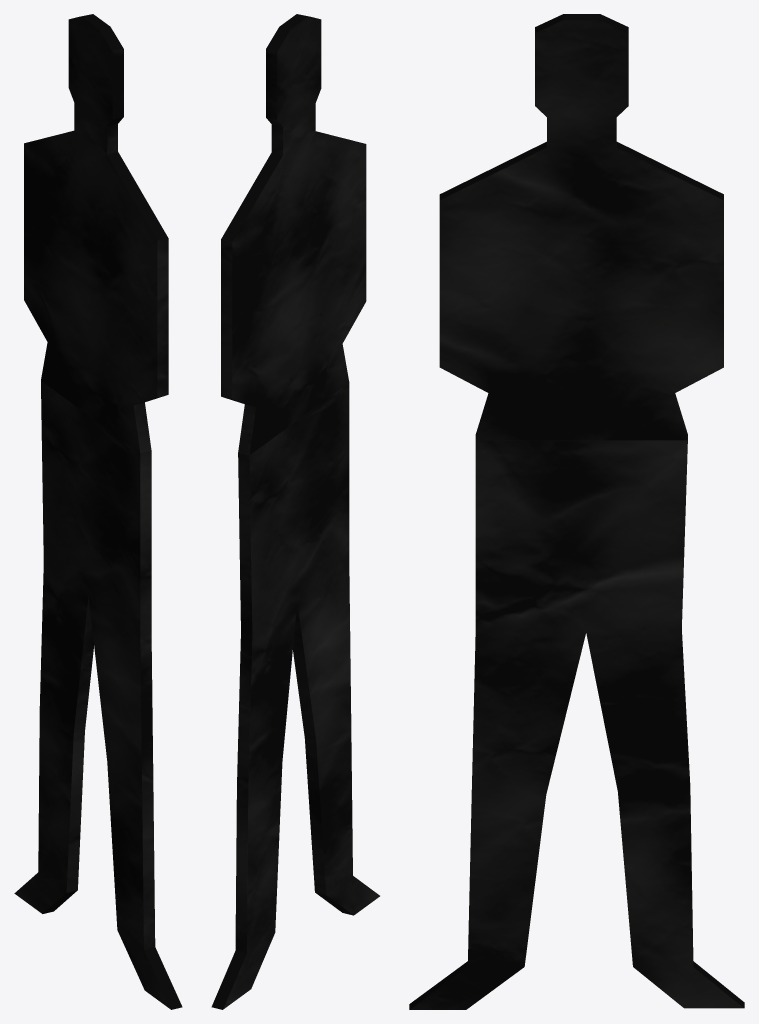
The model's file is BONHOMME1.fbx.
The picture shows the model from 3 angles, left to right: view 1: azimuth 30°, elevation 25°; view 2: azimuth 150°, elevation 25°; view 3: azimuth 270°, elevation 25°; orthographic projection. The views are drawn at different scales.
Parts seen in each view (by area): view 1: Pers1; view 2: Pers1; view 3: Pers1.
Boxes of the visible parts, bbox=[...] form: Pers1: bbox=[14, 14, 182, 1009]; Pers1: bbox=[211, 14, 379, 1009]; Pers1: bbox=[409, 14, 744, 1009].
Bounding box in the file's own units: 5 × 393 × 120.
1 material, 1 textured.
